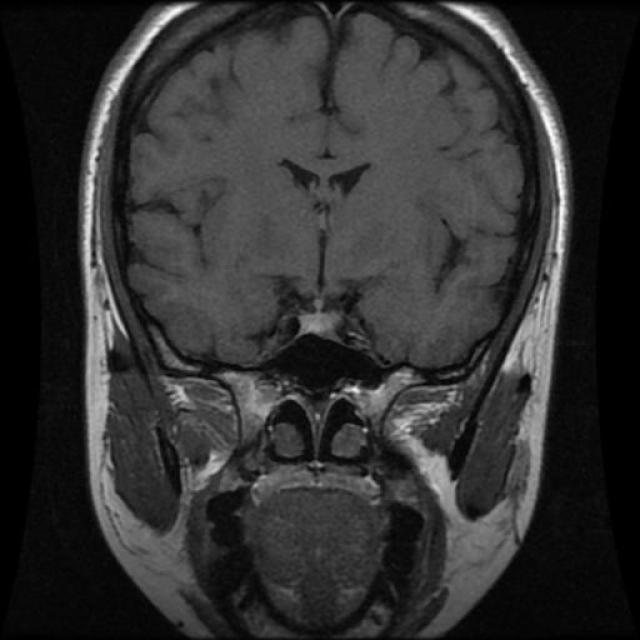pituitary: (281, 295, 355, 349)
